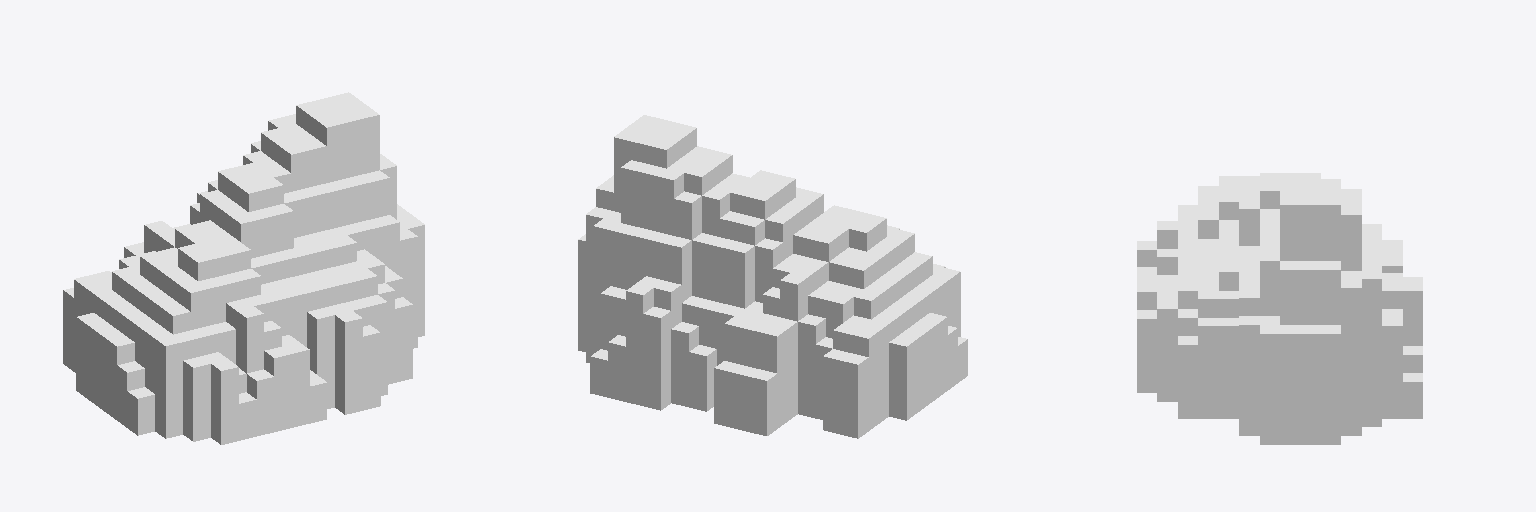
Rendered from Cailloux_petit_neige.obj.
3 renders of one model, left to right at view 1: azimuth 30°, elevation 25°; view 2: azimuth 150°, elevation 25°; view 3: azimuth 270°, elevation 25°, orthographic.
Size of the model in its own units: 18 by 12 by 14.